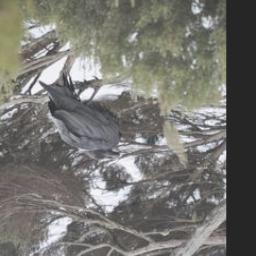Crow: (39, 69, 123, 162)
